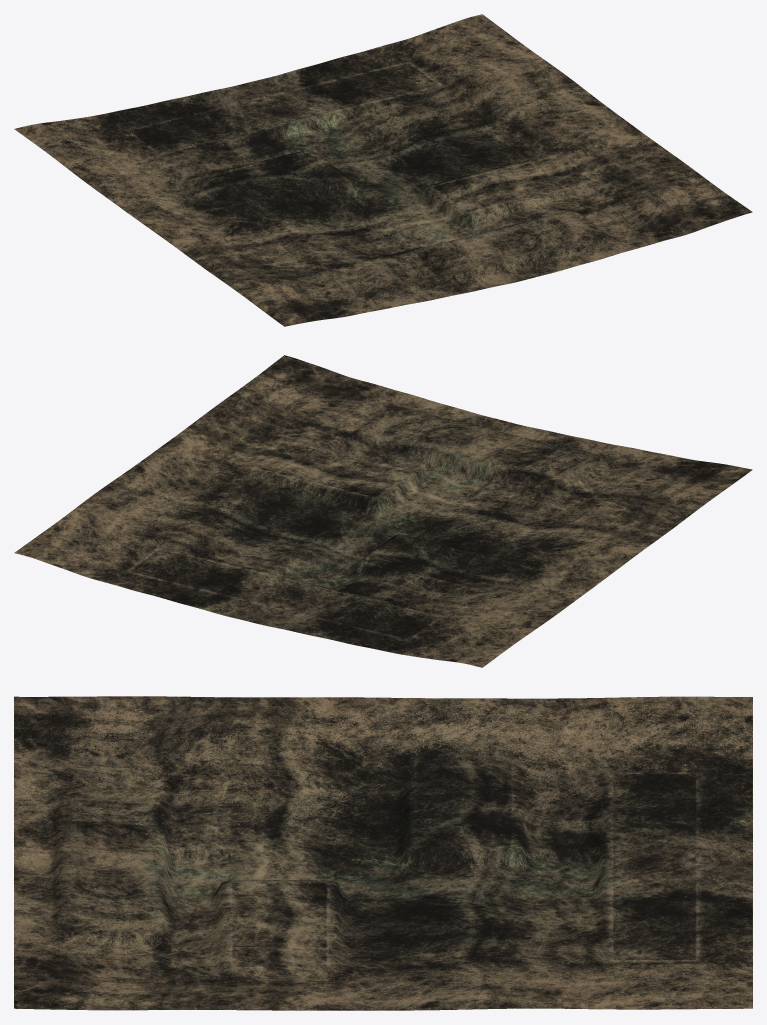
File: half-life-hollow-terrain.glb
The picture shows the model from 3 angles, top to bottom: view 1: azimuth 30°, elevation 25°; view 2: azimuth 150°, elevation 25°; view 3: azimuth 270°, elevation 25°; orthographic projection. The views are drawn at different scales.
Parts seen in each view (by area): view 1: HalfLifeHollowTerrain; view 2: HalfLifeHollowTerrain; view 3: HalfLifeHollowTerrain.
Part boxes in pixels (box(x1,y1,x2,y2)): HalfLifeHollowTerrain: box(14, 14, 752, 326); HalfLifeHollowTerrain: box(14, 355, 752, 667); HalfLifeHollowTerrain: box(14, 696, 752, 1010).
Bounding box in the file's own units: 128 × 5.36 × 128.
1 material, 1 textured.
